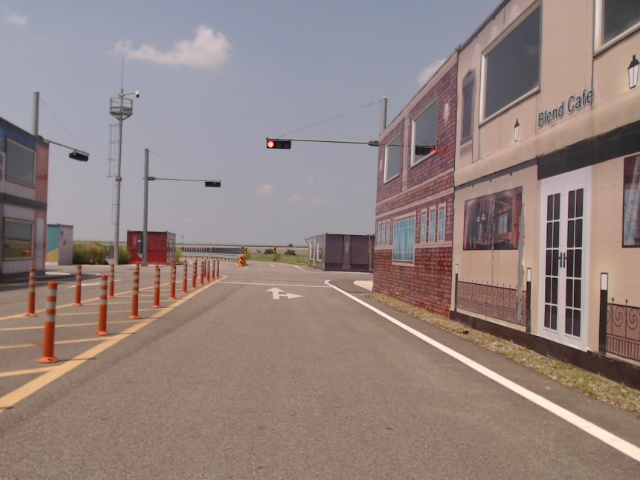red_3: (266, 138, 293, 151)
